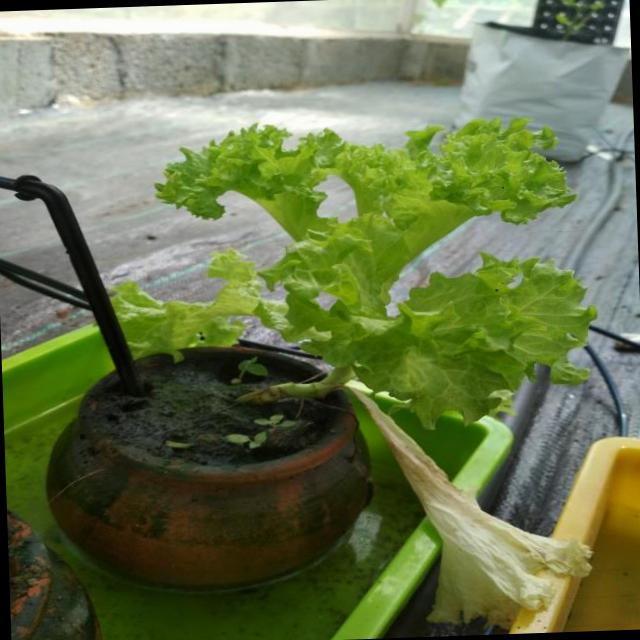Lettuce-Not-Ready-to-Harvest: (113, 118, 595, 424)
